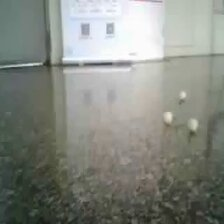tennis: (158, 185, 199, 224), (69, 101, 92, 131), (107, 68, 123, 88)
